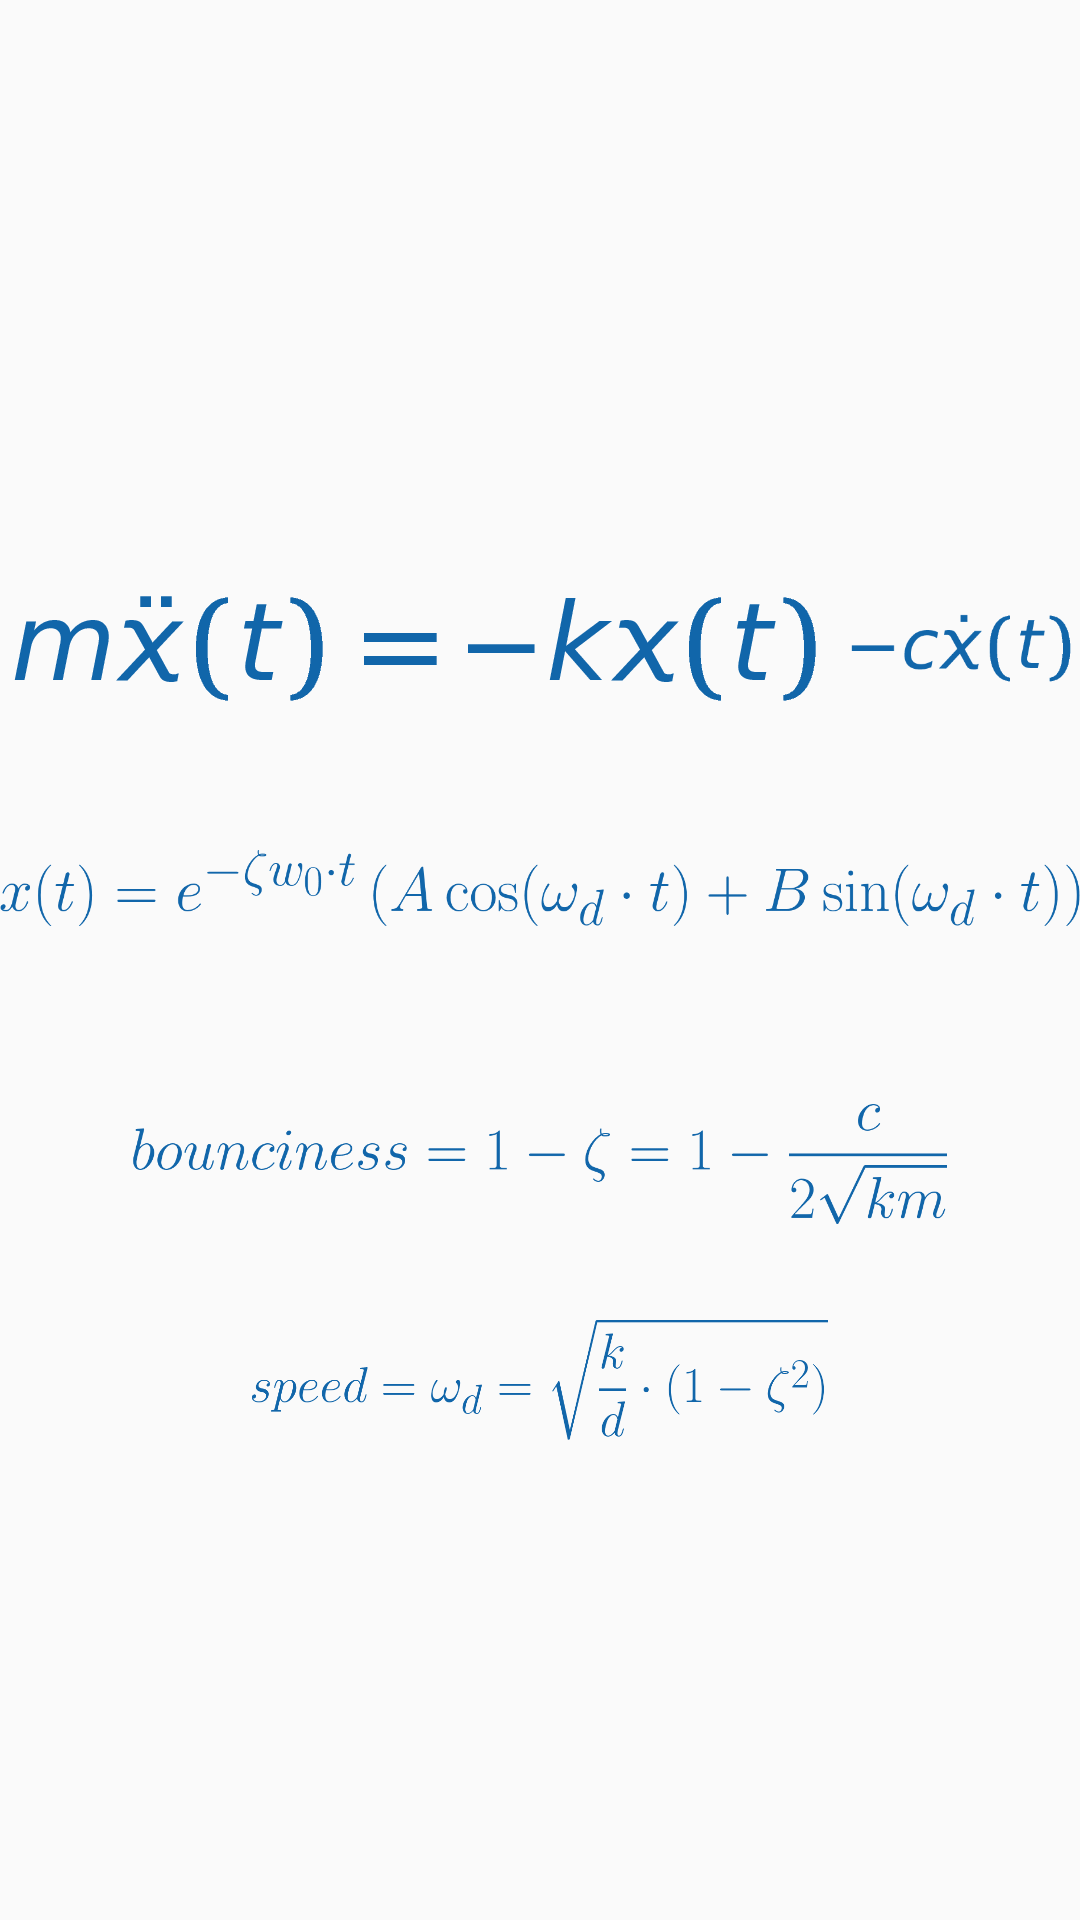

Icon click points for this 1080*1920 phone screenshot, format [x,y]:
right first member eq: [642,649]
right second member eq: [961,648]
